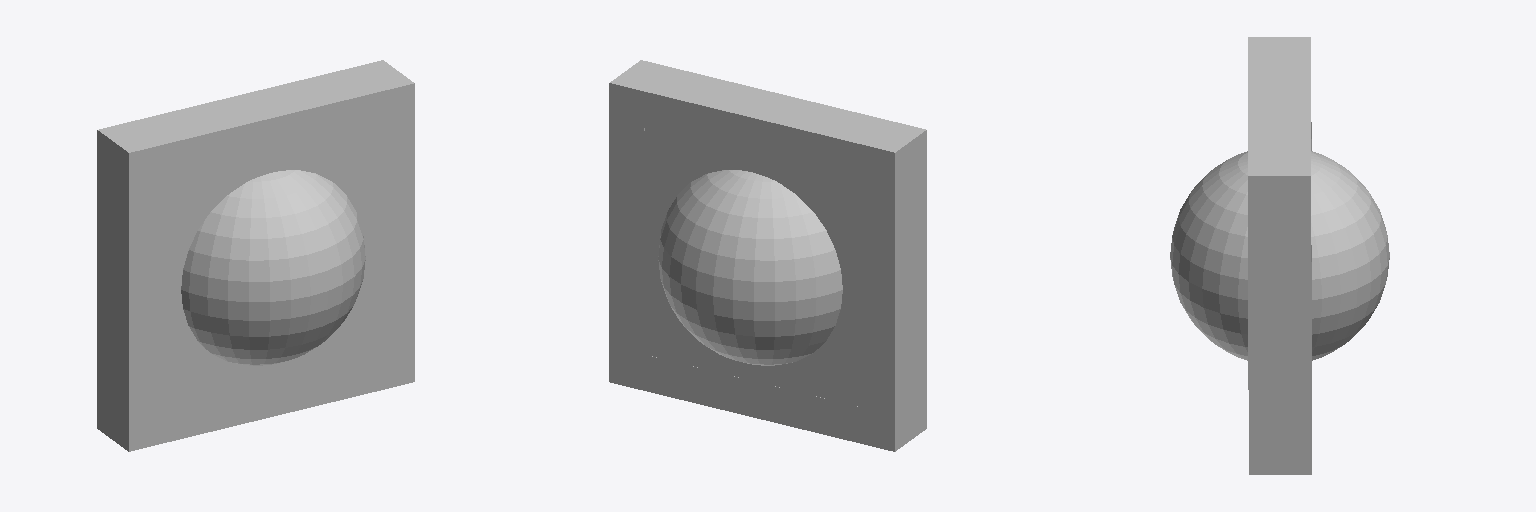
File: Platform3.obj
3 renders of one model, left to right at view 1: azimuth 30°, elevation 25°; view 2: azimuth 150°, elevation 25°; view 3: azimuth 270°, elevation 25°, orthographic.
Visible parts, largest first — view 1: Сфера, Cube, Cube.002, Cube.003, Cube.004, Cube.001; view 2: Сфера, Cube, Cube.002, Cube.003, Cube.004, Cube.001; view 3: Сфера, Cube.004, Cube.003.
Part boxes in pixels (x1,y1,x2,y2): Сфера: (181,170,365,365); Cube: (162,127,380,408); Cube.002: (97,130,162,451); Cube.003: (98,60,414,179); Cube.004: (381,84,414,381); Cube.001: (129,355,413,451); Сфера: (658,170,842,365); Cube: (644,128,859,406); Cube.002: (860,130,926,451); Cube.003: (610,60,925,180); Cube.004: (609,83,643,381); Cube.001: (610,355,893,451); Сфера: (1170,151,1389,360); Cube.004: (1248,176,1311,474); Cube.003: (1248,37,1310,175).
Bounding box in the file's own units: 9.29 × 9.3 × 6.19.